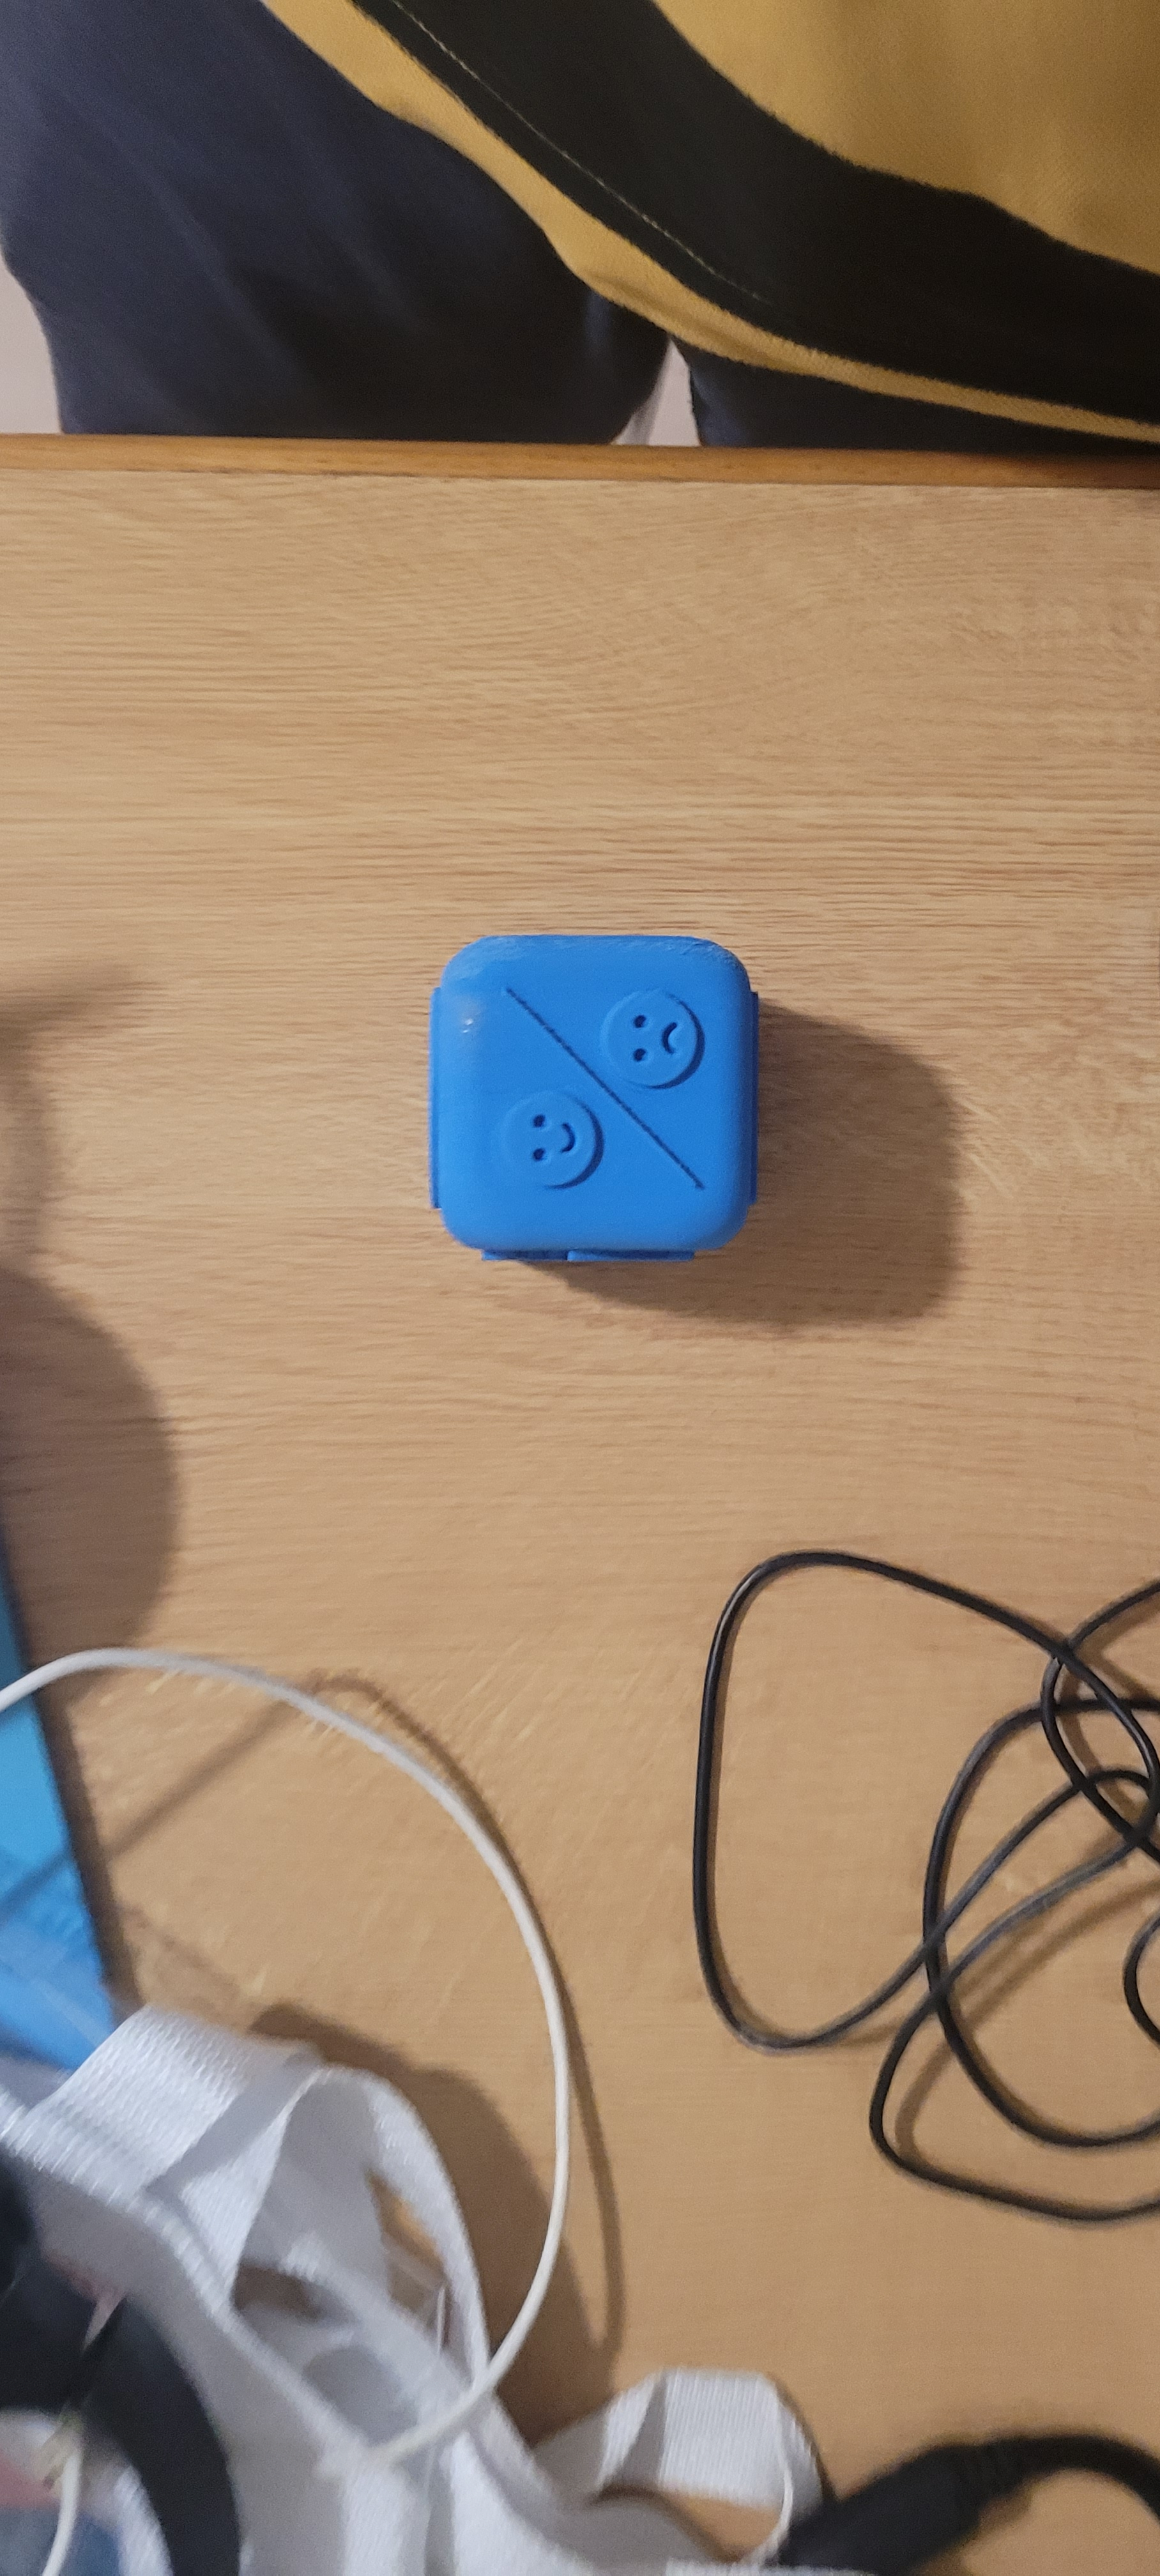Like/Dislike: (419, 913, 754, 1327)
